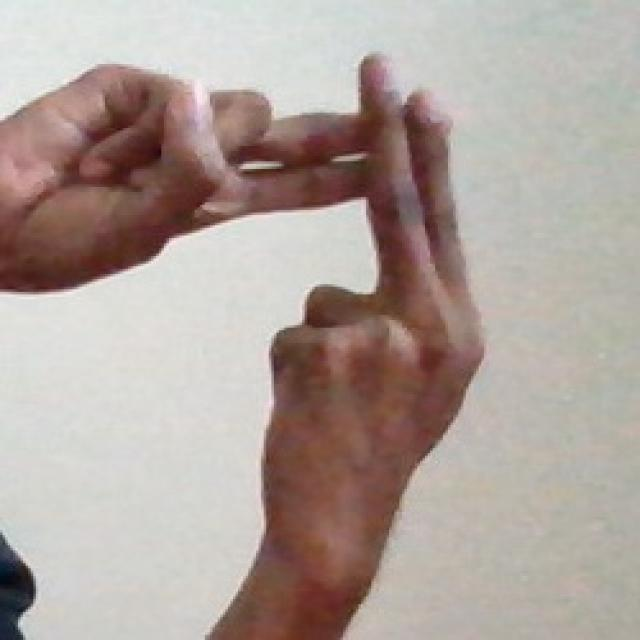Alphabet-F: (25, 55, 495, 583)
